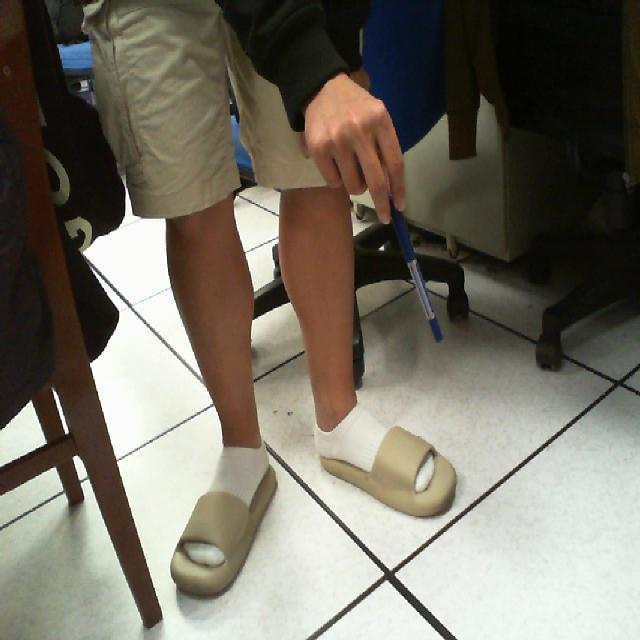Pen: (371, 174, 455, 358)
